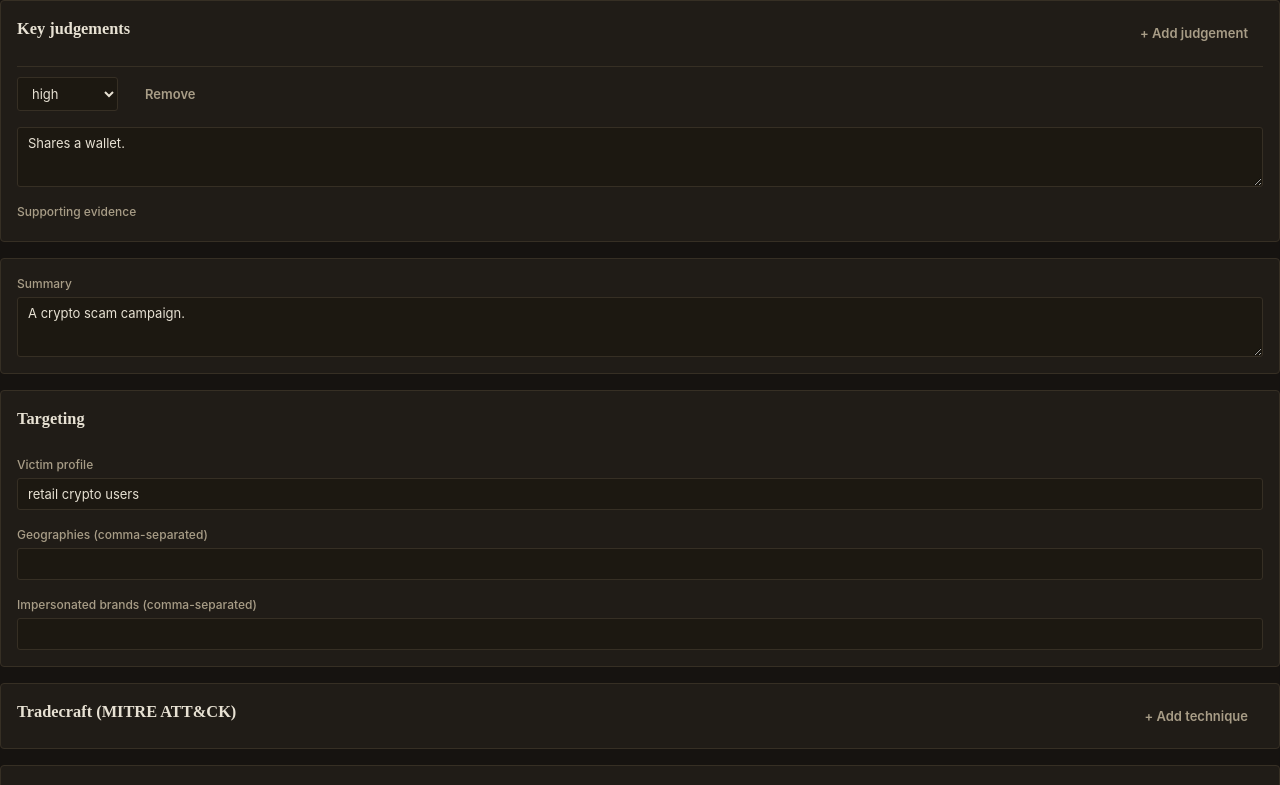
DraftEditForm › adds a new, initially-unknown TTP row via the add-technique button
Click the button with test id "add-ttp" at (1196, 716), box left=1129, top=700, right=1263, bottom=732
(page scrolled)
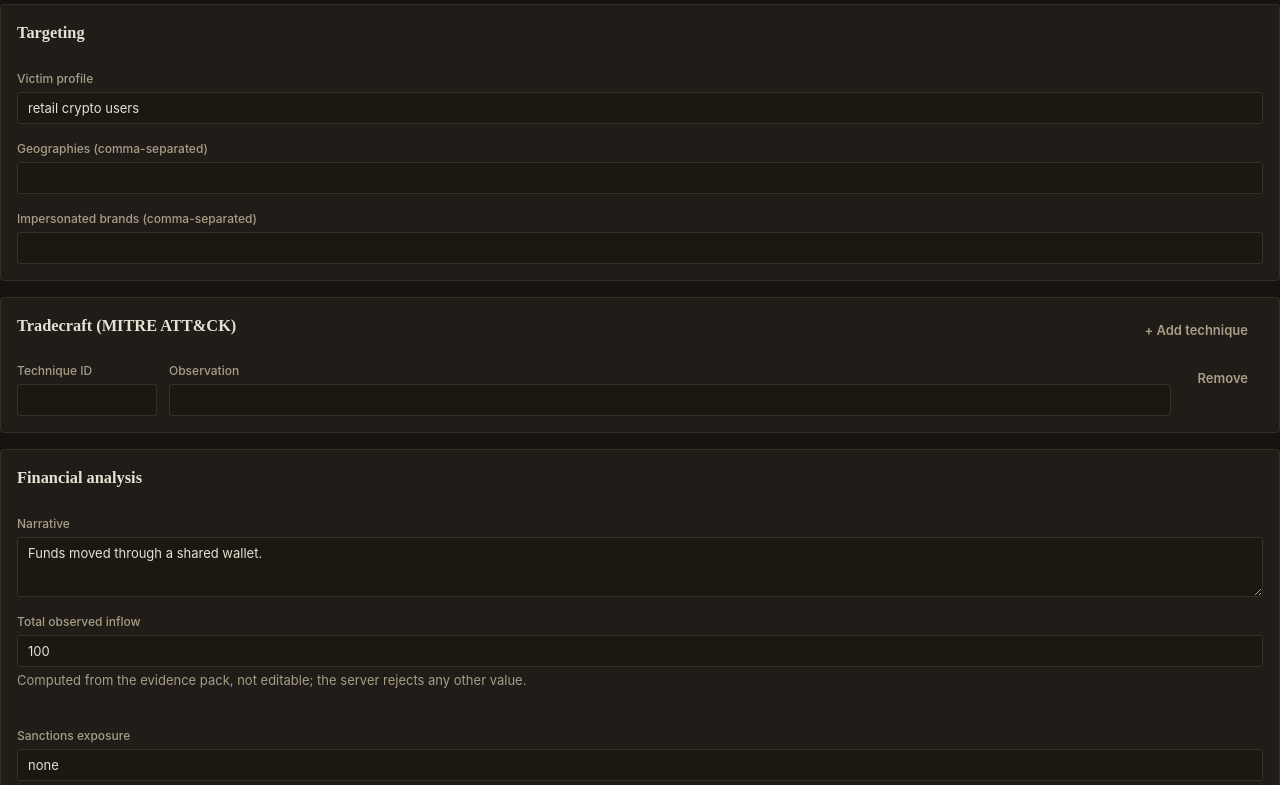
Now the field with test id "ttp-technique-id-0" is shown, box left=17, top=384, right=157, bottom=416
